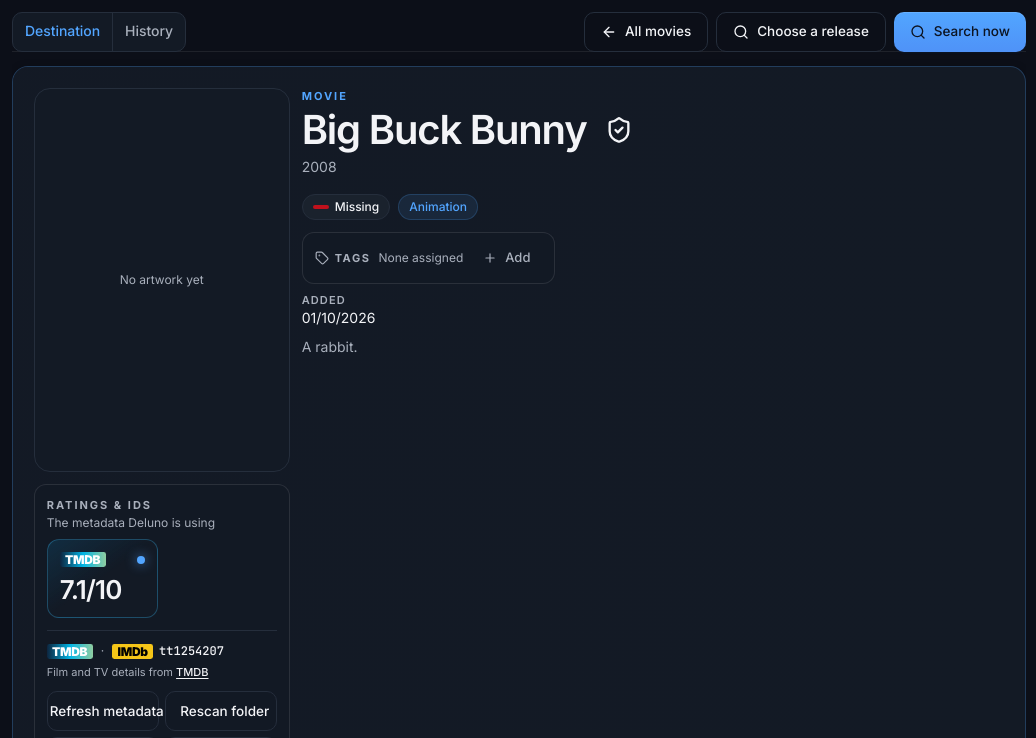
Search now on a film (automatic) › says nothing was found, with the reason, and keeps the note on screen
This screenshot has width=1036, height=738.
Expected: the heading "Big Buck Bunny" is shown, [302,108,586,151]
Click the button "Search now" at (960, 32), box [894,12,1026,52]
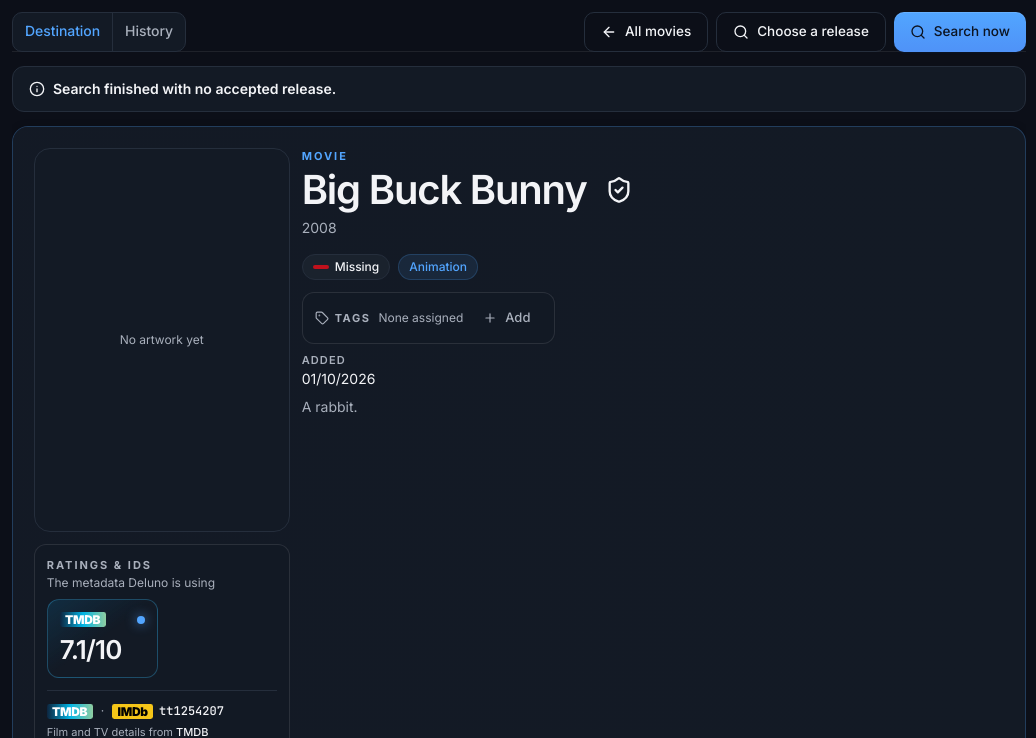
Result: the message named "Result of the last search" is shown at [12,66,1026,112]
